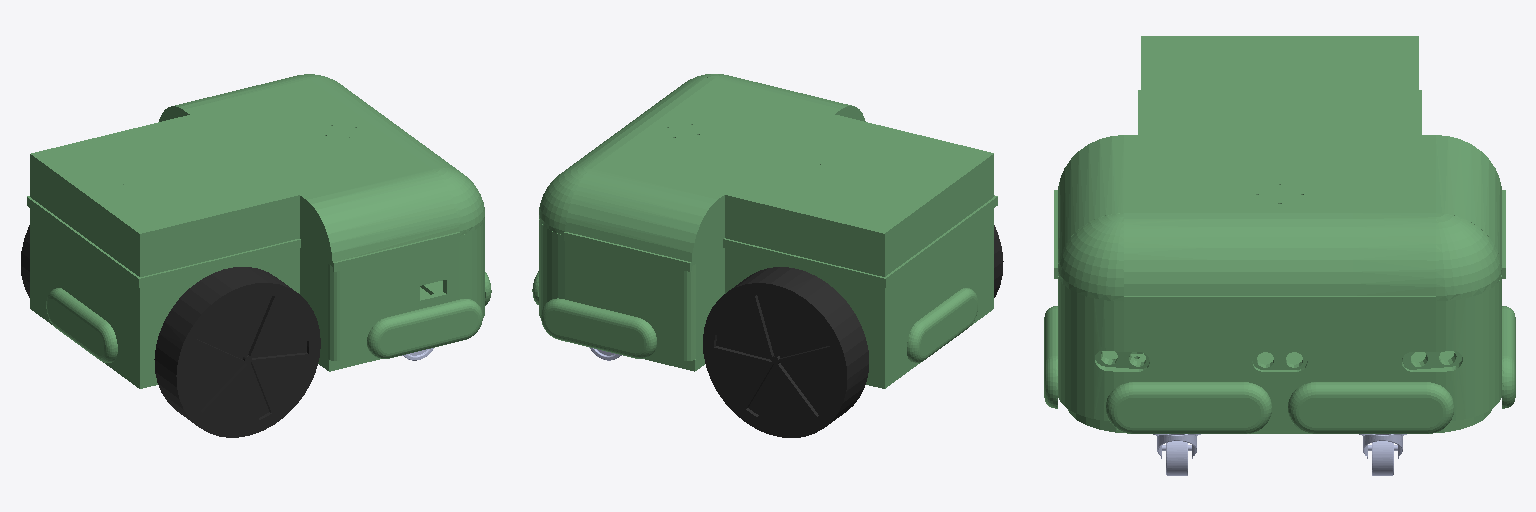
The robot description file, URDF, robot "mow_simplified":
<?xml version="1.0" ?>
<!-- =================================================================================== -->
<!-- |    This document was autogenerated by xacro from urdf/mow_simplified.urdf.xacro | -->
<!-- |    EDITING THIS FILE BY HAND IS NOT RECOMMENDED                                 | -->
<!-- =================================================================================== -->
<!-- This URDF was automatically created by SolidWorks to URDF Exporter! Originally created by Stephen Brawner (brawner@gmail.com) 
     Commit Version: 1.6.0-4-g7f85cfe  Build Version: 1.6.7995.38578
     For more information, please see http://wiki.ros.org/sw_urdf_exporter -->
<robot name="mow_simplified">
  <link name="base_footprint"/>
  <link name="diffDrive_Link"/>
  <joint name="footprint_diffDrive_joint" type="fixed">
    <origin rpy="0 0 0" xyz="-0.12132 -0.00068369 0.05"/>
    <parent link="base_footprint"/>
    <child link="diffDrive_Link"/>
    <axis xyz="0 0 0"/>
  </joint>
  <link name="base_link">
    <inertial>
      <origin rpy="0 0 0" xyz="0.0067734 -0.00048073 0.05721"/>
      <mass value="4.7911"/>
      <inertia ixx="0.025114" ixy="-8.6403E-05" ixz="6.8435E-05" iyy="0.038558" iyz="-5.8158E-07" izz="0.058386"/>
    </inertial>
    <visual>
      <origin rpy="0 0 0" xyz="0 0 0"/>
      <geometry>
        <mesh filename="package://mow_simplified/meshes/base_link.STL"/>
      </geometry>
      <material name="">
        <color rgba="0.47059 0.67843 0.4902 1"/>
      </material>
    </visual>
    <collision>
      <origin rpy="0 0 0" xyz="0 0 0"/>
      <geometry>
        <mesh filename="package://mow_simplified/meshes/base_link.STL"/>
      </geometry>
    </collision>
  </link>
  <joint name="diffDrive_base_joint" type="fixed">
    <parent link="diffDrive_Link"/>
    <child link="base_link"/>
    <origin rpy="0 0 0" xyz="0.12132 0.00068369 0"/>
  </joint>
  <link name="CasterL_Link">
    <inertial>
      <origin rpy="0 0 0" xyz="0.0031783 -1.7938E-05 0.0052651"/>
      <mass value="0.044408"/>
      <inertia ixx="8.5184E-06" ixy="2.8729E-09" ixz="-2.213E-07" iyy="1.3313E-05" iyz="9.5914E-11" izz="9.5611E-06"/>
    </inertial>
    <visual>
      <origin rpy="0 0 0" xyz="0 0 0"/>
      <geometry>
        <mesh filename="package://mow_simplified/meshes/CasterL_Link.STL"/>
      </geometry>
      <material name="">
        <color rgba="0.79216 0.81961 0.93333 1"/>
      </material>
    </visual>
    <collision>
      <origin rpy="0 0 0" xyz="0 0 0"/>
      <geometry>
        <mesh filename="package://mow_simplified/meshes/CasterL_Link.STL"/>
      </geometry>
    </collision>
  </link>
  <joint name="base_casterL_joint" type="fixed">
    <origin rpy="0 0 0" xyz="0.14575 0.091829 -0.0365"/>
    <parent link="base_link"/>
    <child link="CasterL_Link"/>
    <axis xyz="0 0 0"/>
  </joint>
  <link name="CasterR_Link">
    <inertial>
      <origin rpy="0 0 0" xyz="0.0031783 -1.7938E-05 0.0052651"/>
      <mass value="0.044408"/>
      <inertia ixx="8.5184E-06" ixy="2.8729E-09" ixz="-2.213E-07" iyy="1.3313E-05" iyz="9.5914E-11" izz="9.5611E-06"/>
    </inertial>
    <visual>
      <origin rpy="0 0 0" xyz="0 0 0"/>
      <geometry>
        <mesh filename="package://mow_simplified/meshes/CasterR_Link.STL"/>
      </geometry>
      <material name="">
        <color rgba="0.79216 0.81961 0.93333 1"/>
      </material>
    </visual>
    <collision>
      <origin rpy="0 0 0" xyz="0 0 0"/>
      <geometry>
        <mesh filename="package://mow_simplified/meshes/CasterR_Link.STL"/>
      </geometry>
    </collision>
  </link>
  <joint name="base_casterR_joint" type="fixed">
    <origin rpy="0 0 0" xyz="0.14575 -0.093171 -0.0365"/>
    <parent link="base_link"/>
    <child link="CasterR_Link"/>
    <axis xyz="0 0 0"/>
  </joint>
  <link name="BL_wheel_Link">
    <inertial>
      <origin rpy="0 0 0" xyz="1.6653E-16 -0.025317 -2.2204E-16"/>
      <mass value="1.3986"/>
      <inertia ixx="0.0034557" ixy="-2.0989E-17" ixz="7.1506E-20" iyy="0.0063401" iyz="3.0398E-17" izz="0.0034557"/>
    </inertial>
    <visual>
      <origin rpy="0 0 0" xyz="0 0 0"/>
      <geometry>
        <mesh filename="package://mow_simplified/meshes/BL_wheel_Link.STL"/>
      </geometry>
      <material name="">
        <color rgba="0.22353 0.22353 0.22353 1"/>
      </material>
    </visual>
    <collision>
      <origin rpy="0 0 0" xyz="0 0 0"/>
      <geometry>
        <mesh filename="package://mow_simplified/meshes/BL_wheel_Link.STL"/>
      </geometry>
    </collision>
  </link>
  <joint name="base_BLwheel_joint" type="continuous">
    <origin rpy="0 0 0" xyz="-0.12132 0.1775 0.031"/>
    <parent link="base_link"/>
    <child link="BL_wheel_Link"/>
    <axis xyz="0 1 0"/>
  </joint>
  <link name="BR_wheel_Link">
    <inertial>
      <origin rpy="0 0 0" xyz="-3.6082E-16 0.025317 1.9984E-15"/>
      <mass value="1.3986"/>
      <inertia ixx="0.0034557" ixy="-1.2329E-18" ixz="1.7843E-19" iyy="0.0063401" iyz="2.9612E-17" izz="0.0034557"/>
    </inertial>
    <visual>
      <origin rpy="0 0 0" xyz="0 0 0"/>
      <geometry>
        <mesh filename="package://mow_simplified/meshes/BR_wheel_Link.STL"/>
      </geometry>
      <material name="">
        <color rgba="0.22353 0.22353 0.22353 1"/>
      </material>
    </visual>
    <collision>
      <origin rpy="0 0 0" xyz="0 0 0"/>
      <geometry>
        <mesh filename="package://mow_simplified/meshes/BR_wheel_Link.STL"/>
      </geometry>
    </collision>
  </link>
  <joint name="base_BRwheel_joint" type="continuous">
    <origin rpy="0 0 0" xyz="-0.12132 -0.1775 0.031"/>
    <parent link="base_link"/>
    <child link="BR_wheel_Link"/>
    <axis xyz="0 1 0"/>
  </joint>
  <link name="ActCorte_Link"/>
  <joint name="base_ActCorte_joint" type="fixed">
    <origin rpy="0 0 0" xyz="-0.032315 -0.00068369 0"/>
    <parent link="base_link"/>
    <child link="ActCorte_Link"/>
    <axis xyz="0 0 0"/>
  </joint>
  <link name="ActTrimmer_Link"/>
  <joint name="base_ActTrimmer_joint" type="fixed">
    <origin rpy="0 0 0" xyz="0.058685 -0.12923 0"/>
    <parent link="base_link"/>
    <child link="ActTrimmer_Link"/>
    <axis xyz="0 0 0"/>
  </joint>
  <link name="SonarL_Link"/>
  <joint name="base_sonarL_joint" type="fixed">
    <origin rpy="0 0 0.5235987755982988" xyz="0.1942 0.136 0.074957"/>
    <parent link="base_link"/>
    <child link="SonarL_Link"/>
    <axis xyz="0 0 0"/>
  </joint>
  <link name="SonarC_Link"/>
  <joint name="base_sonarC_joint" type="fixed">
    <origin rpy="0 0 0" xyz="0.19768 -0.00068369 0.075"/>
    <parent link="base_link"/>
    <child link="SonarC_Link"/>
    <axis xyz="0 0 0"/>
  </joint>
  <link name="SonarR_Link"/>
  <joint name="base_sonarR_joint" type="fixed">
    <origin rpy="0 0 -0.5235987755982988" xyz="0.19311 -0.14351 0.074831"/>
    <parent link="base_link"/>
    <child link="SonarR_Link"/>
    <axis xyz="0 0 0"/>
  </joint>
  <link name="BumperFR_Link"/>
  <joint name="base_bumperFR_joint" type="fixed">
    <origin rpy="0 0 0" xyz="0.21368 -0.082684 0.03"/>
    <parent link="base_link"/>
    <child link="BumperFR_Link"/>
    <axis xyz="0 0 0"/>
  </joint>
  <link name="BumperFL_Link"/>
  <joint name="base_bumperFL_joint" type="fixed">
    <origin rpy="0 0 0" xyz="0.21368 0.081316 0.03"/>
    <parent link="base_link"/>
    <child link="BumperFL_Link"/>
    <axis xyz="0 0 0"/>
  </joint>
  <link name="BumperL_Link"/>
  <joint name="base_bumperL_joint" type="fixed">
    <origin rpy="0 0 1.5708" xyz="0.095685 0.21132 0.03"/>
    <parent link="base_link"/>
    <child link="BumperL_Link"/>
    <axis xyz="0 0 0"/>
  </joint>
  <link name="BumperR_Link"/>
  <joint name="base_bumperR_joint" type="fixed">
    <origin rpy="0 0 -1.5708" xyz="0.095685 -0.21268 0.03"/>
    <parent link="base_link"/>
    <child link="BumperR_Link"/>
    <axis xyz="0 0 0"/>
  </joint>
  <link name="BumperB_Link"/>
  <joint name="base_bumperB_joint" type="fixed">
    <origin rpy="0 0 3.1416" xyz="-0.24632 -0.00068369 0.03"/>
    <parent link="base_link"/>
    <child link="BumperB_Link"/>
    <axis xyz="0 0 0"/>
  </joint>
  <link name="Lidar_Link"/>
  <joint name="base_lidar_joint" type="fixed">
    <origin rpy="0 0 -1.5708" xyz="0.10813 -0.19668 0.075"/>
    <parent link="base_link"/>
    <child link="Lidar_Link"/>
    <axis xyz="0 0 0"/>
  </joint>
  <link name="Camara_Link"/>
  <joint name="base_camara_joint" type="fixed">
    <origin rpy="0 0 0" xyz="0.12193 -0.00068369 0.195"/>
    <parent link="base_link"/>
    <child link="Camara_Link"/>
    <axis xyz="0 0 0"/>
  </joint>
  <link name="BerryGPS_Link"/>
  <joint name="base_berryGPS_joint" type="fixed">
    <origin rpy="0 0 0" xyz="0.058754 -0.00068369 0.195"/>
    <parent link="base_link"/>
    <child link="BerryGPS_Link"/>
    <axis xyz="0 0 0"/>
  </joint>
  <link name="BerryIMU_Link"/>
  <joint name="base_berryIMU_joint" type="fixed">
    <origin rpy="0 0 0" xyz="0.058685 0.074316 0"/>
    <parent link="base_link"/>
    <child link="BerryIMU_Link"/>
    <axis xyz="0 0 0"/>
  </joint>
</robot>

--- What the picture shows (computed from the rendered views, not written in the file) ---
The picture shows the robot from 3 angles, left to right: view 1: azimuth 30°, elevation 25°; view 2: azimuth 150°, elevation 25°; view 3: azimuth 270°, elevation 25°; orthographic projection.
Robot: mow_simplified — 21 links, 20 joints (2 continuous, 18 fixed); root link base_footprint; default pose: all joints at 0.
Visible links, largest first — view 1: base_link, BR_wheel_Link; view 2: base_link, BL_wheel_Link; view 3: base_link, CasterL_Link, CasterR_Link.
Link boxes in pixels (x1,y1,x2,y2): base_link: (27,74,491,388); BR_wheel_Link: (154,267,320,437); base_link: (532,74,997,388); BL_wheel_Link: (703,267,868,437); base_link: (1044,36,1515,433); CasterL_Link: (1359,434,1406,475); CasterR_Link: (1153,434,1200,475).
Size in the robot's own frame: 0.46 by 0.424 by 0.2589 metres.
5 mesh visuals loaded from 5 distinct referenced files (5 binary STL).
